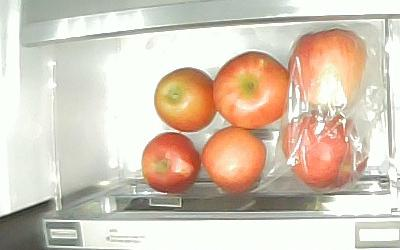apple: (213, 52, 290, 128), (201, 126, 268, 193), (154, 68, 216, 134), (142, 132, 201, 194)
apple_vinyl: (282, 111, 366, 189), (289, 29, 367, 108)
